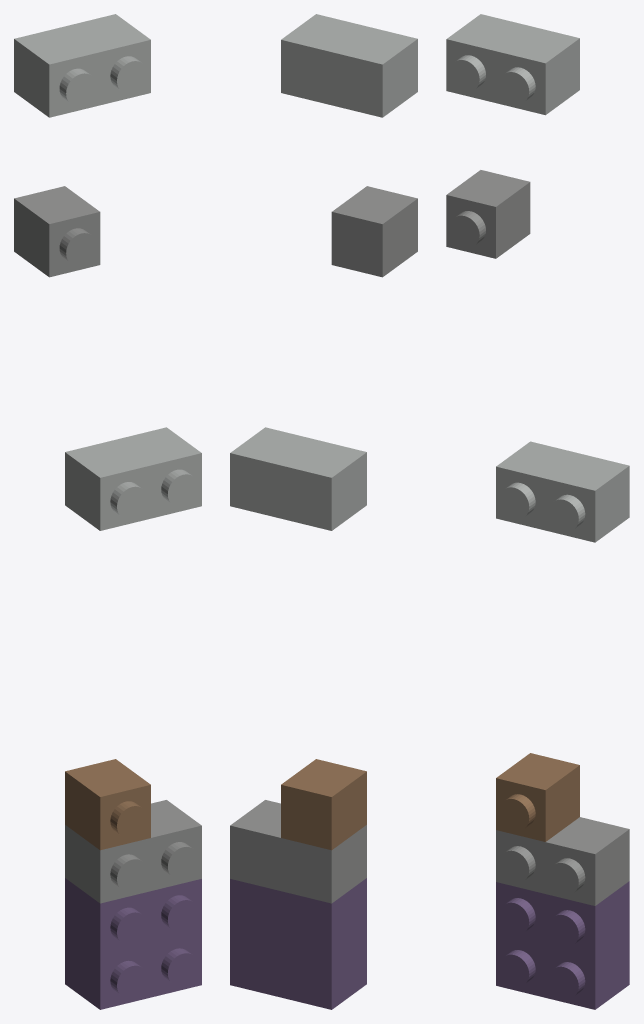
Rendered from current.glb.
The picture shows the model from 3 angles, left to right: view 1: azimuth 30°, elevation 25°; view 2: azimuth 150°, elevation 25°; view 3: azimuth 330°, elevation 25°; orthographic projection. The views are drawn at different scales.
Parts seen in each view (by area): view 1: world; view 2: world; view 3: world.
Boxes of the visible parts, x1=… form: world: x1=14, y1=14, x2=201, y2=1009; world: x1=230, y1=14, x2=417, y2=1009; world: x1=446, y1=14, x2=629, y2=1009.
Size of the model in its own units: 24 by 144 by 11.4.
